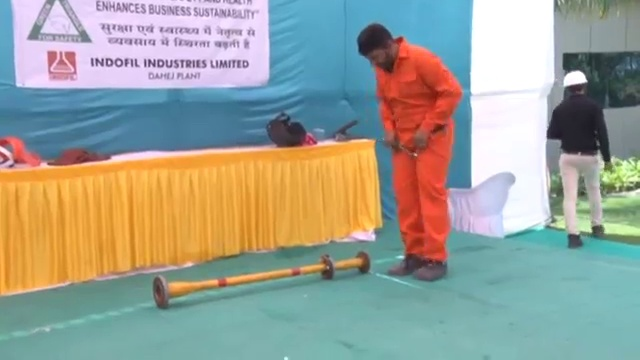helmet: (561, 69, 589, 87)
helmet_off: (356, 22, 397, 73)
helmet_on: (561, 68, 590, 102)
person: (353, 21, 463, 282), (551, 69, 611, 248)
